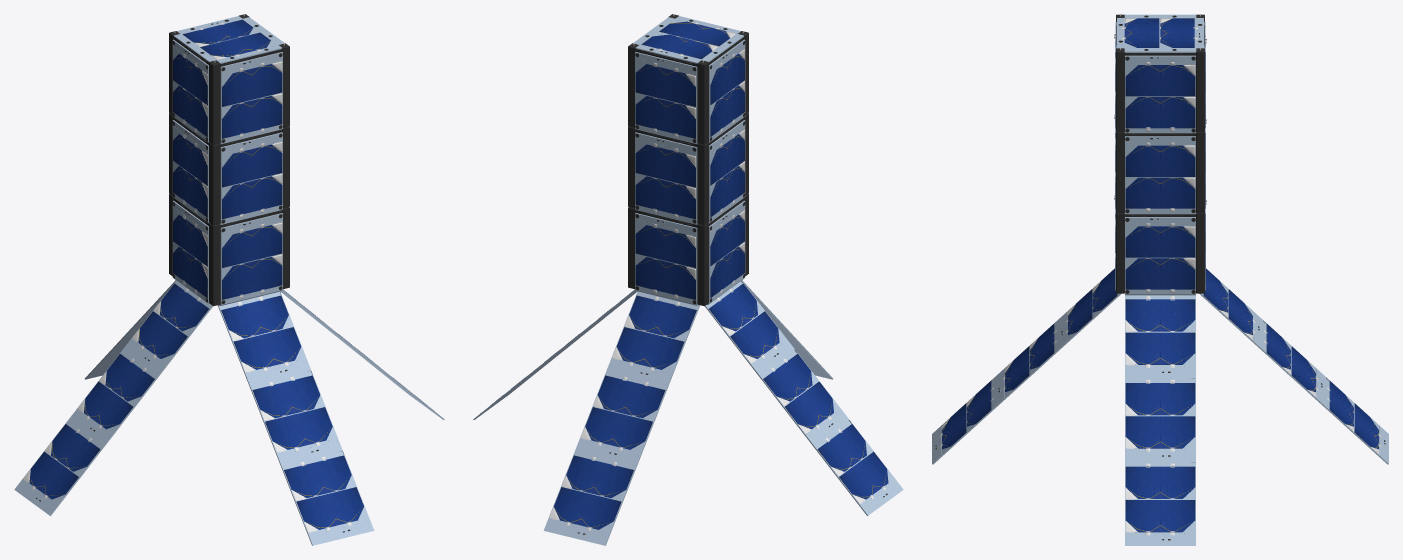
Rendered from CubesatArray.glb.
3 views of the same model, side by side, from view 1: azimuth 30°, elevation 25°; view 2: azimuth 150°, elevation 25°; view 3: azimuth 270°, elevation 25° (orthographic).
Visible parts, largest first — view 1: Hinge (×4), Panel.002 (×3), Panel.001 (×3), Struts (×3), Bolt.001; view 2: Hinge (×4), Panel (×3), Panel.001 (×3), Struts (×3), Bolt.001; view 3: Hinge (×3), Panel.003 (×3), Struts (×3), Bolt.001.
Boxes of the visible parts, x1=… form: Hinge (×4): x1=14, y1=278, x2=444, y2=545; Panel.002 (×3): x1=220, y1=52, x2=282, y2=304; Panel.001 (×3): x1=172, y1=39, x2=208, y2=303; Struts (×3): x1=169, y1=14, x2=289, y2=306; Bolt.001: x1=174, y1=16, x2=284, y2=63; Hinge (×4): x1=473, y1=278, x2=903, y2=545; Panel (×3): x1=635, y1=52, x2=697, y2=304; Panel.001 (×3): x1=709, y1=39, x2=745, y2=303; Struts (×3): x1=628, y1=14, x2=748, y2=306; Bolt.001: x1=633, y1=16, x2=743, y2=63; Hinge (×3): x1=932, y1=268, x2=1388, y2=545; Panel.003 (×3): x1=1125, y1=55, x2=1195, y2=294; Struts (×3): x1=1116, y1=14, x2=1204, y2=293; Bolt.001: x1=1117, y1=14, x2=1203, y2=52.
Size of the model in its own units: 5.13 by 5.19 by 5.13.
Materials: 5 (1 with a texture image).
